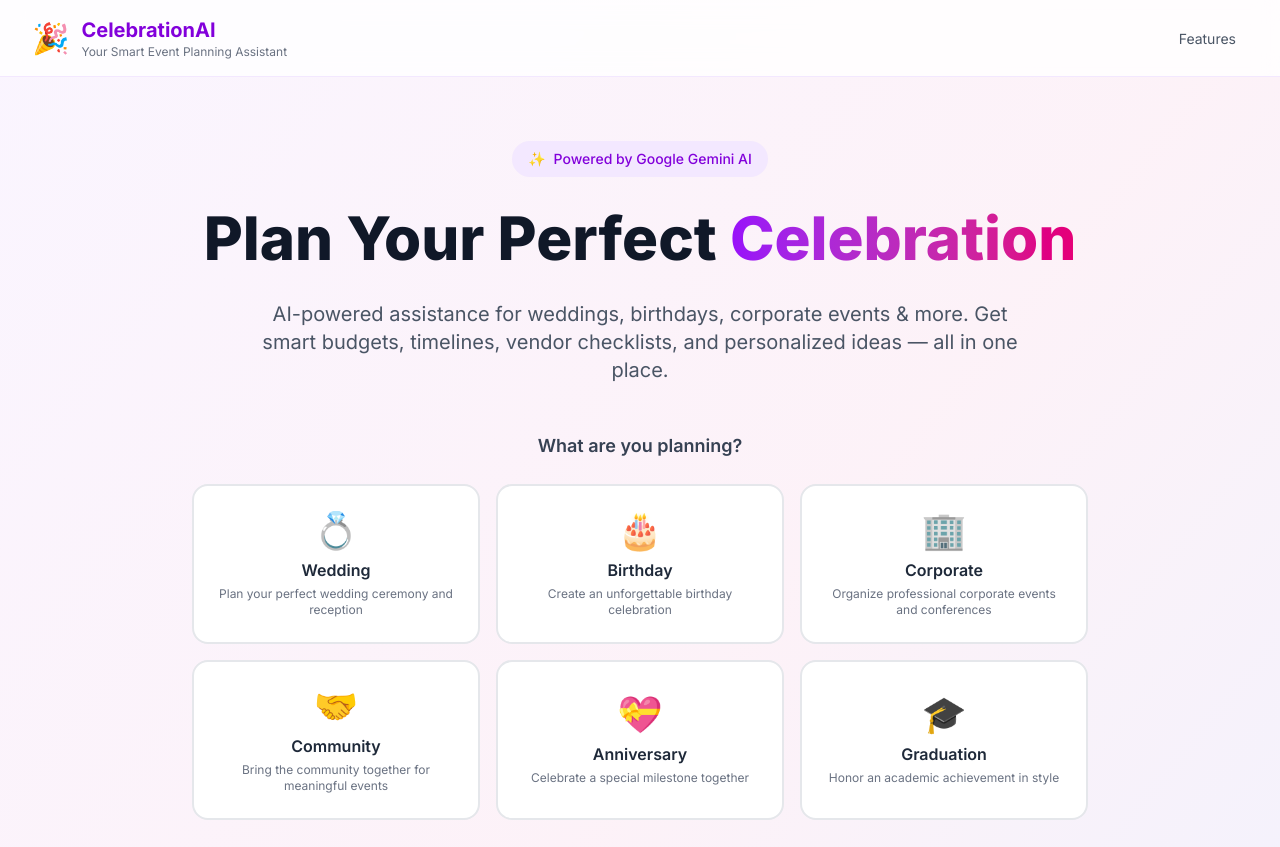
Test case: HomePage landing page › advances to details step when event type is chosen and Get Started is clicked
Step 1. Click the radio button labelled "🎂 Birthday Create an unforgettable birthday celebration" → (640, 564), box top-left (496, 484), bottom-right (784, 644)
(page scrolled)
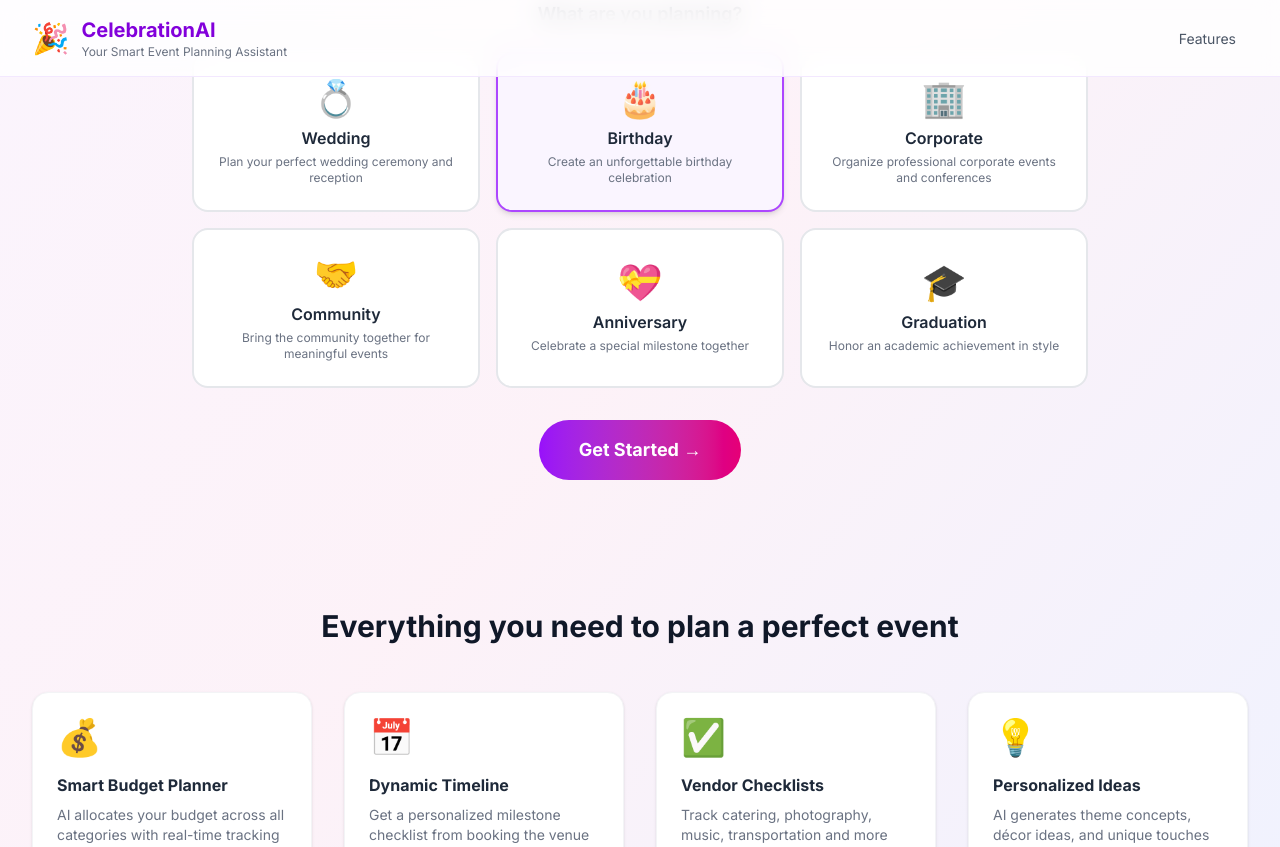
Step 2. Click the button "Get Started →" → (640, 450), box top-left (539, 420), bottom-right (741, 480)
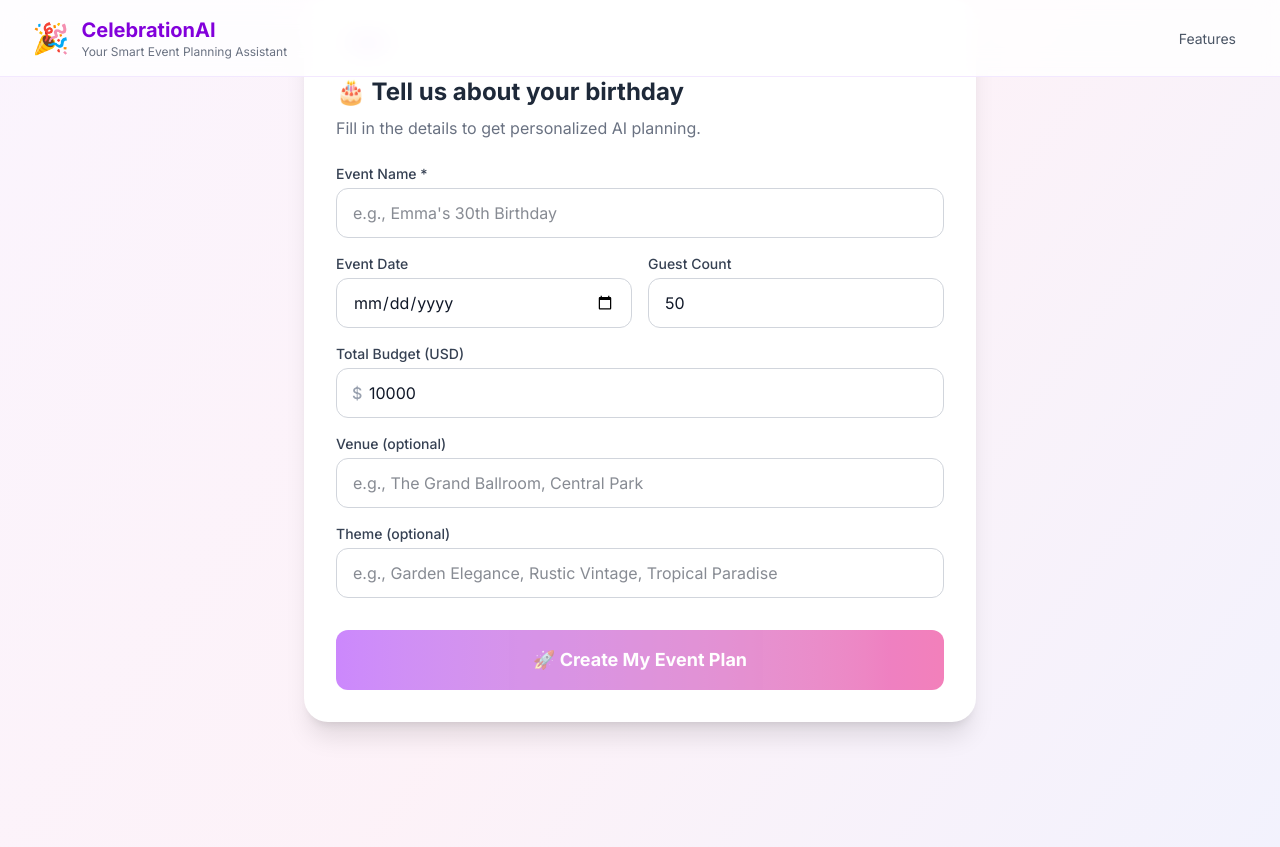
Expected: the field labelled "Event Name *" is shown, top-left (336, 188), bottom-right (944, 238)
Expected: the date field labelled "Event Date" is shown, top-left (336, 278), bottom-right (632, 328)
Expected: the number field labelled "Total Budget (USD)" is shown, top-left (336, 368), bottom-right (944, 418)
